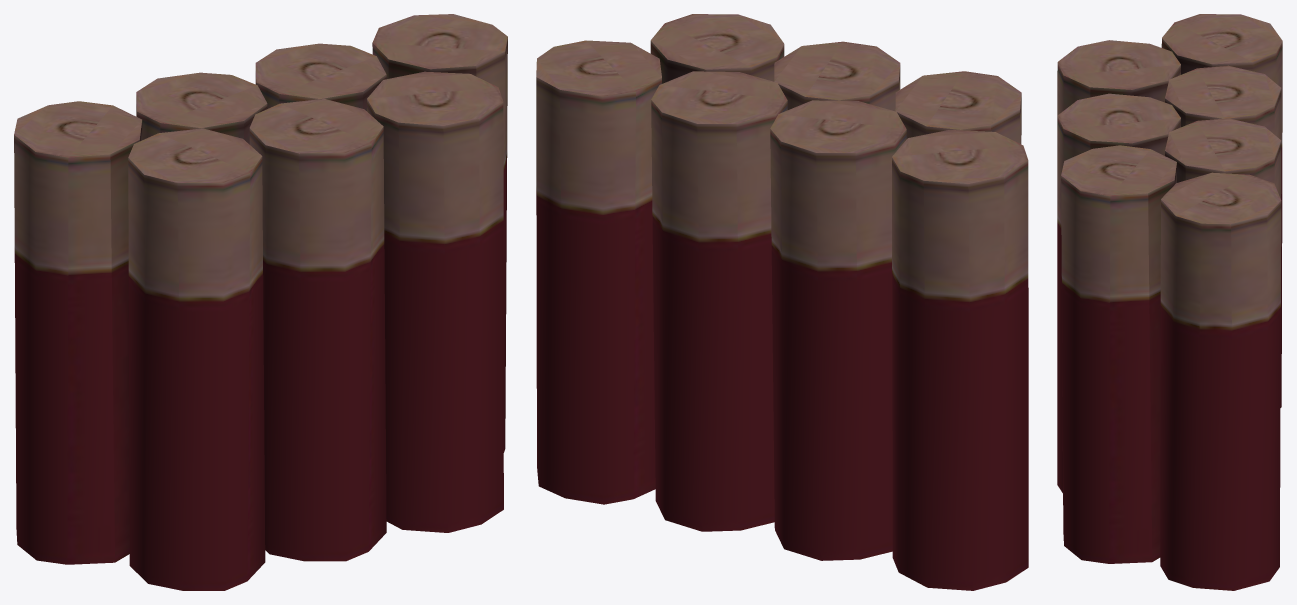
File: Ammo_Shotgun.fbx
3 views of the same model, side by side, from view 1: azimuth 30°, elevation 25°; view 2: azimuth 150°, elevation 25°; view 3: azimuth 270°, elevation 25° (orthographic). The views are drawn at different scales.
Visible parts, largest first — view 1: polySurface16; view 2: polySurface16; view 3: polySurface16.
Part boxes in pixels (left/top/right/bottom): polySurface16: left=14, top=14, right=507, bottom=590; polySurface16: left=536, top=14, right=1028, bottom=590; polySurface16: left=1057, top=14, right=1282, bottom=590.
Bounding box in the file's own units: 1.43 × 1.18 × 0.6512.
